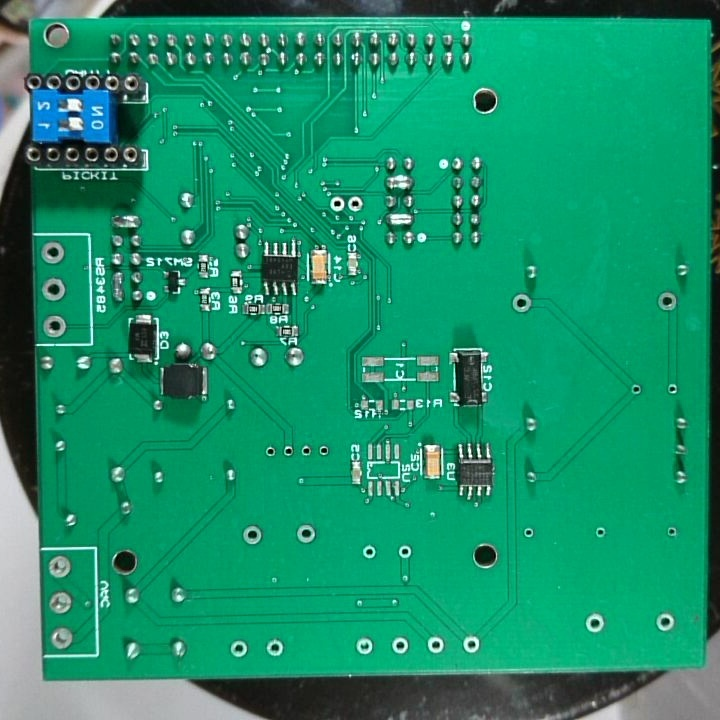F: (39, 274, 68, 306), (48, 625, 77, 652), (39, 313, 68, 340), (46, 589, 73, 617), (45, 555, 74, 581), (239, 523, 265, 549), (39, 240, 65, 266), (510, 289, 534, 317), (654, 289, 679, 314), (582, 612, 607, 635), (293, 523, 318, 546), (654, 610, 676, 633), (263, 638, 286, 660), (461, 633, 483, 655), (388, 634, 410, 656), (228, 637, 248, 661), (425, 634, 446, 656), (354, 635, 374, 658), (345, 193, 364, 215), (359, 541, 378, 561), (396, 542, 413, 563), (297, 440, 314, 460), (279, 443, 296, 463), (328, 194, 345, 214), (628, 381, 645, 400), (316, 441, 332, 461), (263, 443, 279, 461), (521, 523, 534, 543), (665, 380, 679, 397), (594, 523, 607, 541), (665, 524, 678, 541)
P: (384, 172, 417, 191), (109, 212, 142, 230), (385, 211, 417, 227), (111, 269, 125, 303)
